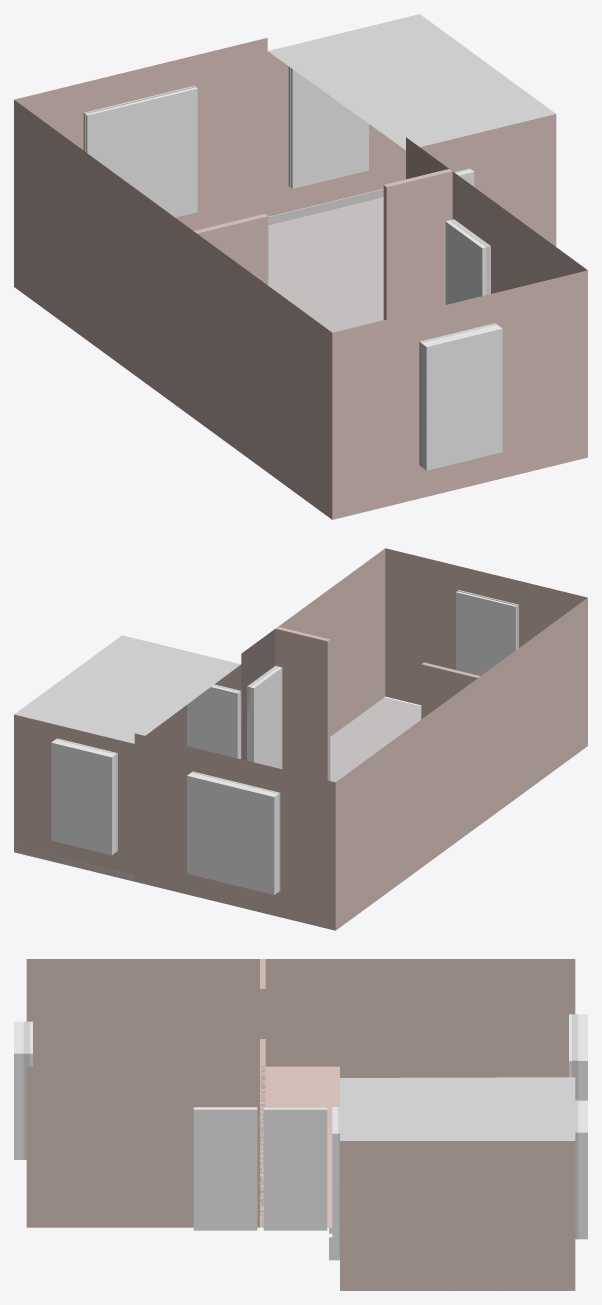
3 views of the same model, one above another, from view 1: azimuth 30°, elevation 25°; view 2: azimuth 150°, elevation 25°; view 3: azimuth 270°, elevation 25° (orthographic). The views are drawn at different scales.
Visible parts, largest first — view 1: Salle, Ceiling, Cuisine, CTRL_Hole.005, CTRL_Hole.004, CTRL_Hole.003, Floor, SolSalle, CTRL_Hole.002, Baseboard; view 2: Salle, Ceiling, Cuisine, CTRL_Hole.004, CTRL_Hole.003, CTRL_Hole.005, SolSalle, CTRL_Hole, CTRL_Hole.001, Baseboard; view 3: Salle, Cuisine, Ceiling, CTRL_Hole.001, CTRL_Hole.002, CTRL_Hole.005, CTRL_Hole.003, CTRL_Hole, CTRL_Hole.004, WindowFrame.002, Baseboard, WindowFrame (+1 smaller).
Part boxes in pixels (x1,y1,x2,y2): Salle: [14, 38, 587, 519]; Ceiling: [268, 14, 555, 149]; Cuisine: [267, 51, 556, 246]; CTRL_Hole.005: [421, 324, 502, 470]; CTRL_Hole.004: [85, 87, 197, 217]; CTRL_Hole.003: [290, 68, 368, 188]; Floor: [269, 197, 383, 307]; SolSalle: [268, 225, 383, 332]; CTRL_Hole.002: [445, 220, 490, 304]; Baseboard: [268, 188, 383, 225]; Salle: [134, 548, 587, 930]; Ceiling: [14, 635, 240, 743]; Cuisine: [14, 664, 241, 881]; CTRL_Hole.004: [187, 772, 278, 894]; CTRL_Hole.003: [51, 739, 116, 855]; CTRL_Hole.005: [456, 591, 517, 675]; SolSalle: [330, 697, 421, 782]; CTRL_Hole: [187, 685, 240, 758]; CTRL_Hole.001: [247, 667, 282, 768]; Baseboard: [14, 847, 134, 881]; Salle: [26, 959, 575, 1227]; Cuisine: [340, 1141, 575, 1290]; Ceiling: [340, 1077, 575, 1140]; CTRL_Hole.001: [263, 1107, 327, 1230]; CTRL_Hole.002: [193, 1107, 257, 1230]; CTRL_Hole.005: [14, 1021, 32, 1159]; CTRL_Hole.003: [578, 1100, 587, 1239]; CTRL_Hole: [332, 1107, 339, 1254]; CTRL_Hole.004: [569, 1014, 587, 1100]; WindowFrame.002: [23, 1021, 29, 1159]; Baseboard: [340, 1284, 574, 1290]; WindowFrame: [575, 1100, 578, 1239].
Size of the model in its own units: 635 by 290 by 903.
